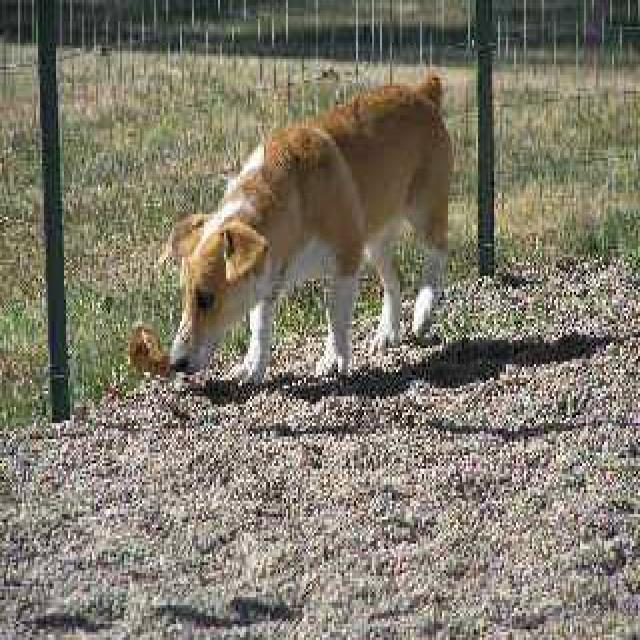dog: (147, 34, 476, 411)
